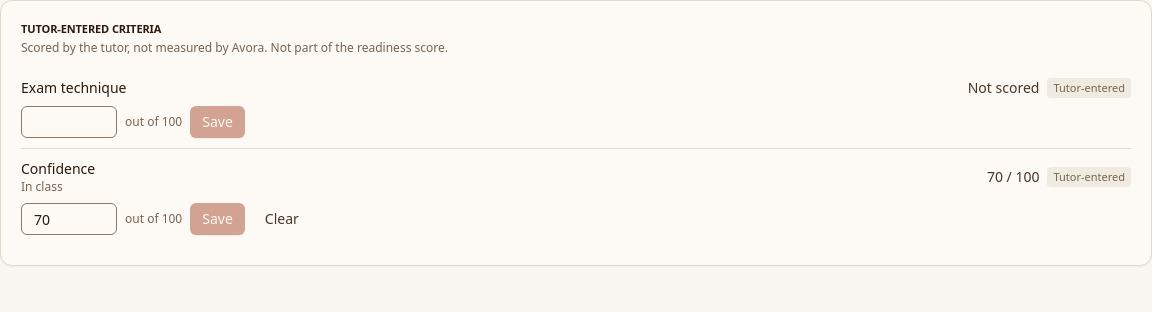
Test: when a save and then a clear both fail, the clear's error is the one shown
Replace the text in the number field named "score for confidence" below "Confidence" with "85" at x=69, y=219, box [21, 203, 117, 235]
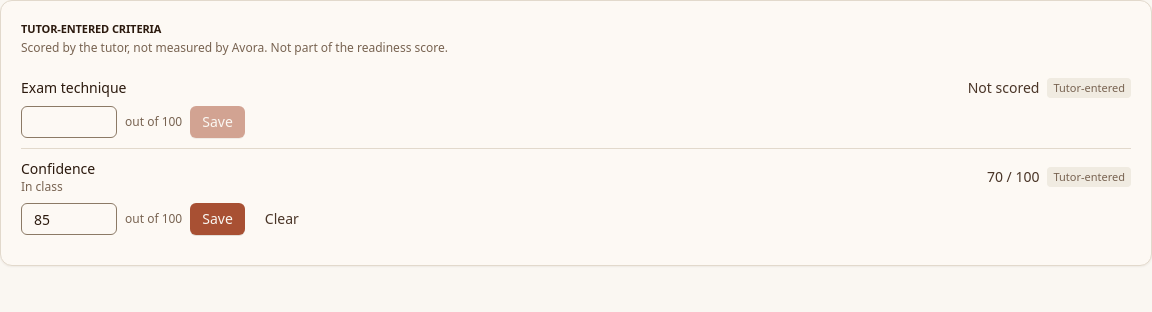
Click the button with aria-label "save score for confidence" at x=218, y=219, box [190, 203, 245, 235]
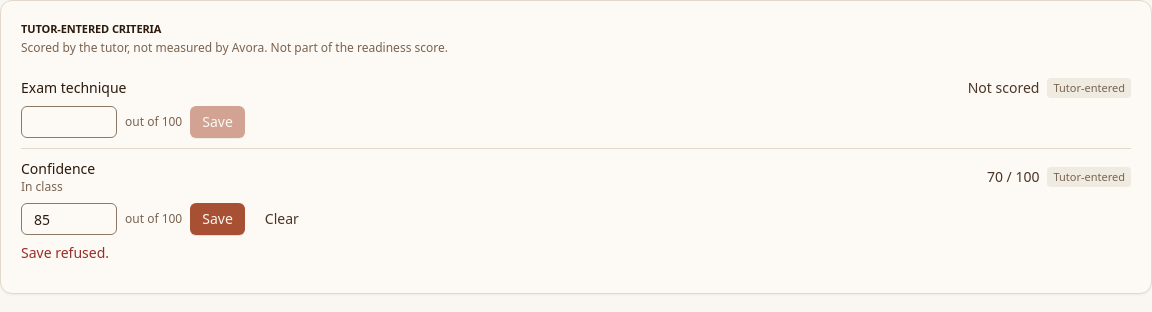
Check: the message shows "Save refused", box [21, 243, 109, 262]
Click the button with aria-label "clear score for confidence" at x=282, y=219, box [253, 203, 311, 235]
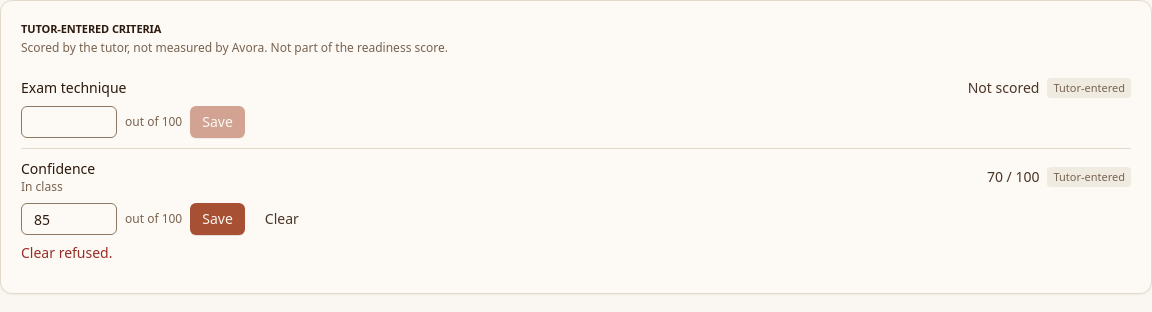
Check: the message shows "Clear refused", box [21, 243, 112, 262]
